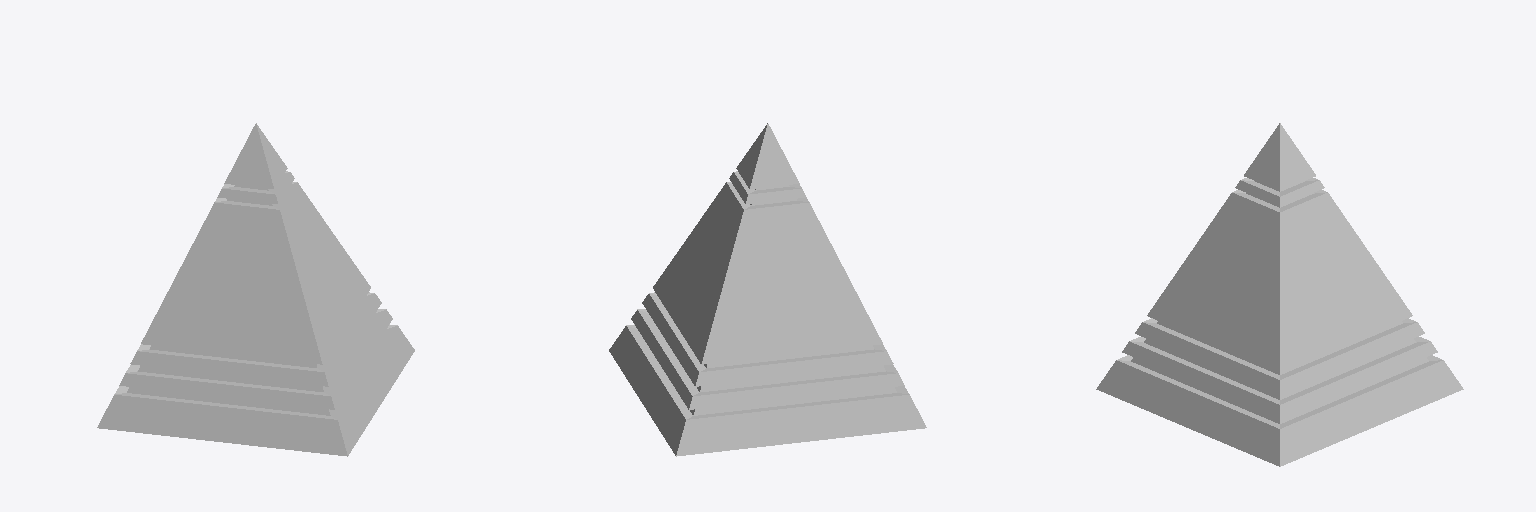
The model's file is Pyramide_01.obj.
3 renders of one model, left to right at view 1: azimuth 30°, elevation 25°; view 2: azimuth 150°, elevation 25°; view 3: azimuth 270°, elevation 25°, orthographic.
Visible parts, largest first — view 1: pCone1; view 2: pCone1; view 3: pCone1.
Part boxes in pixels (bbox=[...]): pCone1: bbox=[97, 123, 414, 456]; pCone1: bbox=[609, 123, 926, 456]; pCone1: bbox=[1096, 123, 1463, 466].
Size of the model in its own units: 2 by 1.6 by 2.